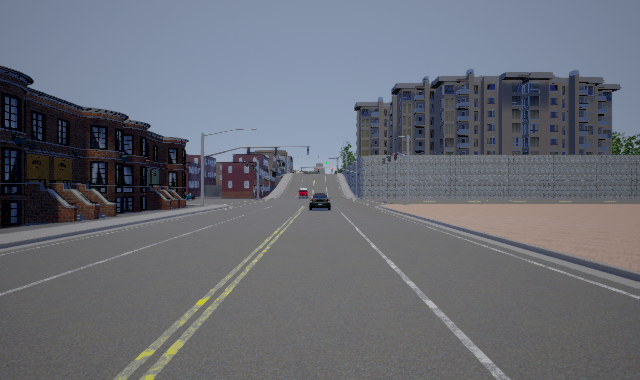vehicle: (309, 193, 331, 210), (296, 187, 309, 198)
